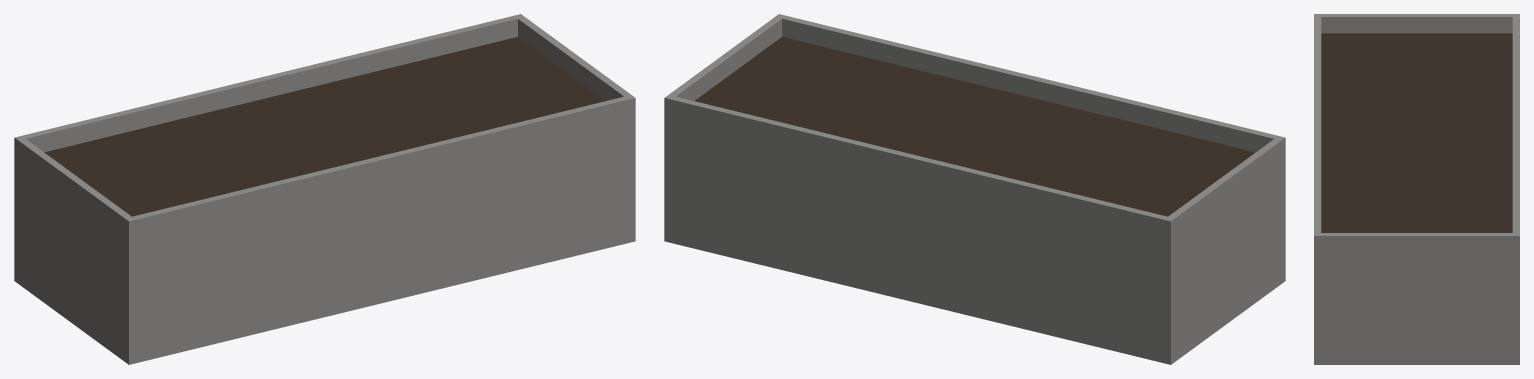
File: floreira_3.glb
The picture shows the model from 3 angles, left to right: view 1: azimuth 30°, elevation 25°; view 2: azimuth 150°, elevation 25°; view 3: azimuth 270°, elevation 25°; orthographic projection. The views are drawn at different scales.
Visible parts, largest first — view 1: floreira_3; view 2: floreira_3; view 3: floreira_3.
Part boxes in pixels (x1,y1,x2,y2): floreira_3: (14, 14, 635, 364); floreira_3: (664, 14, 1285, 364); floreira_3: (1314, 14, 1519, 364).
Bounding box in the file's own units: 2.6 × 0.7044 × 1.02.
